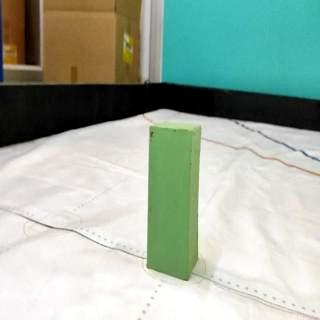greenbox: (145, 120, 203, 282)
